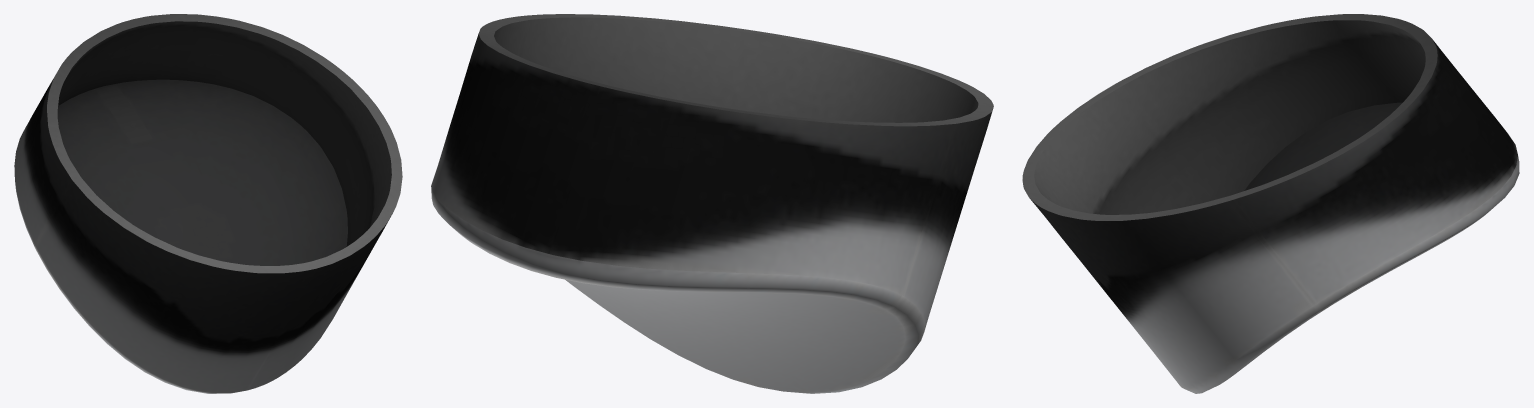
File: trigger.obj
3 views of the same model, side by side, from view 1: azimuth 30°, elevation 25°; view 2: azimuth 150°, elevation 25°; view 3: azimuth 270°, elevation 25° (orthographic). The views are drawn at different scales.
Parts seen in each view (by area): view 1: trigger.002; view 2: trigger.002; view 3: trigger.002.
Part boxes in pixels (<box>): trigger.002: <box>14,14,402,393</box>; trigger.002: <box>431,14,993,393</box>; trigger.002: <box>1022,14,1519,393</box>.
Bounding box in the file's own units: 0.0263 × 0.0239 × 0.0334.
1 material, 1 textured.
